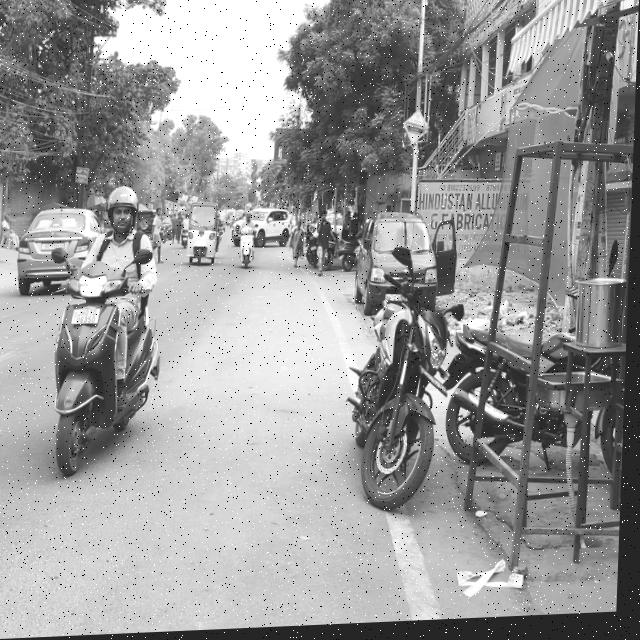bike: (53, 247, 167, 506), (341, 295, 453, 515), (441, 321, 579, 488), (238, 226, 261, 270), (306, 231, 321, 272)
car: (354, 209, 462, 324), (19, 195, 107, 301), (234, 209, 294, 256)
